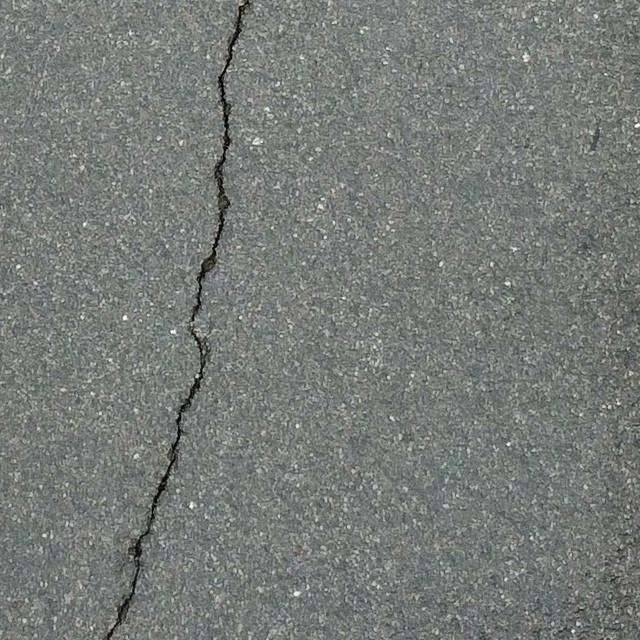LongitudinalCrack: (104, 1, 250, 639)
